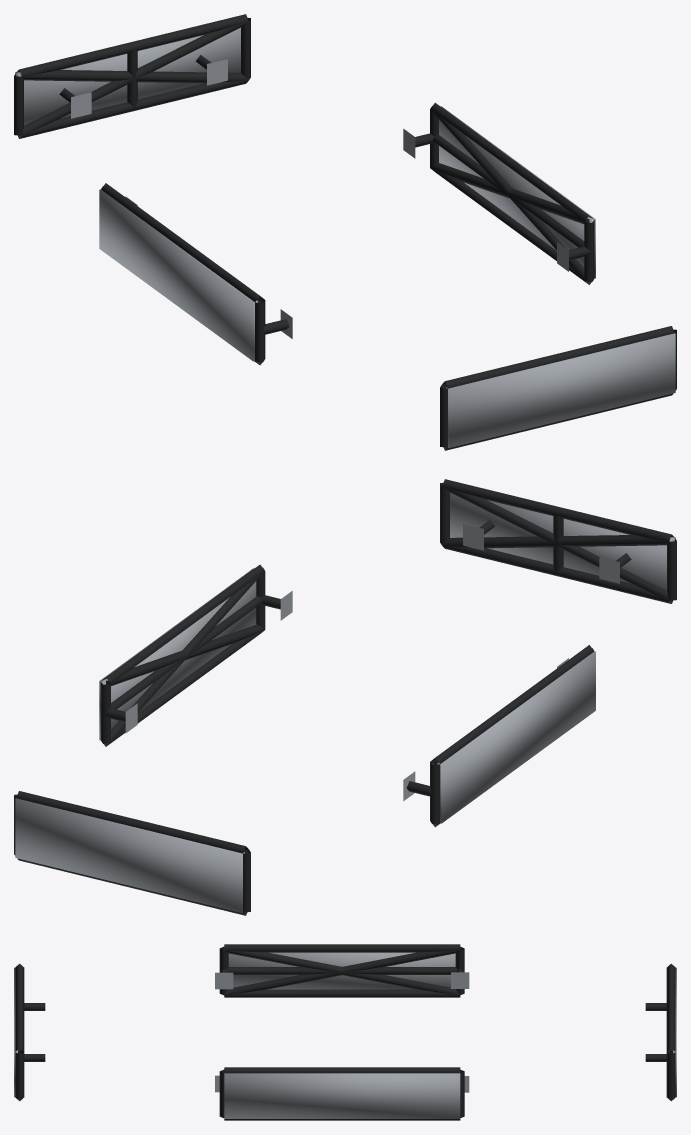
File: norrvik_gota_protecao.glb
3 renders of one model, top to bottom at view 1: azimuth 30°, elevation 25°; view 2: azimuth 150°, elevation 25°; view 3: azimuth 270°, elevation 25°, orthographic. The views are drawn at different scales.
Visible parts, largest first — view 1: Protection_front_Level3_Details, Protection_left_Level3_Details, Protection_rear_Level1_Details, Protection_rear_Level3_Details, Protection_right_Level1_Details, Protection_rear_Level2_Details, Protection_right_Level2_Details, Protection_right_Level3_Details, Protection_front_Level1_Details, Protection_left_Level1_Details; view 2: Protection_rear_Level3_Details, Protection_left_Level3_Details, Protection_front_Level1_Details, Protection_front_Level3_Details, Protection_right_Level1_Details, Protection_front_Level2_Details, Protection_right_Level2_Details, Protection_right_Level3_Details, Protection_rear_Level1_Details, Protection_left_Level1_Details; view 3: Protection_right_Level3_Details, Protection_left_Level1_Details, Protection_left_Level2_Details, Protection_left_Level3_Details, Protection_right_Level1_Details, Protection_rear_Level1_Details, Protection_front_Level1_Details.
Part boxes in pixels (x1,y1,x2,y2): Protection_front_Level3_Details: (446,333,675,448); Protection_left_Level3_Details: (99,189,258,361); Protection_rear_Level1_Details: (14,14,250,138); Protection_rear_Level3_Details: (15,27,240,125); Protection_right_Level1_Details: (403,102,594,284); Protection_rear_Level2_Details: (16,21,248,137); Protection_right_Level2_Details: (430,109,593,284); Protection_right_Level3_Details: (439,106,595,278); Protection_front_Level1_Details: (440,326,676,450); Protection_left_Level1_Details: (101,183,292,365); Protection_rear_Level3_Details: (15,798,244,913); Protection_left_Level3_Details: (437,651,595,823); Protection_front_Level1_Details: (440,479,676,603); Protection_front_Level3_Details: (450,492,675,590); Protection_right_Level1_Details: (100,564,292,746); Protection_front_Level2_Details: (442,486,674,602); Protection_right_Level2_Details: (102,572,264,746); Protection_right_Level3_Details: (99,568,256,740); Protection_rear_Level1_Details: (14,791,250,915); Protection_left_Level1_Details: (403,645,594,827); Protection_right_Level3_Details: (224,1073,460,1118); Protection_left_Level1_Details: (215,944,469,997); Protection_left_Level2_Details: (223,947,460,995); Protection_left_Level3_Details: (228,952,455,989); Protection_right_Level1_Details: (215,1067,469,1120); Protection_rear_Level1_Details: (645,963,675,1101); Protection_front_Level1_Details: (15,963,45,1101).
Bounding box in the file's own units: 1.82 × 0.354 × 3.99.
1 material, 1 textured.
